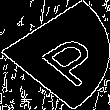P_NW: (13, 24, 98, 86)
